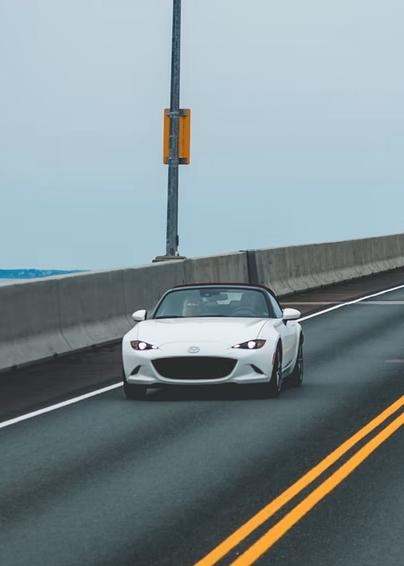car: (112, 264, 322, 410)
